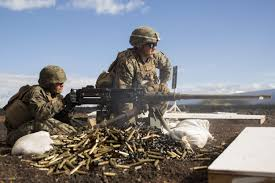gun: (66, 66, 272, 131)
